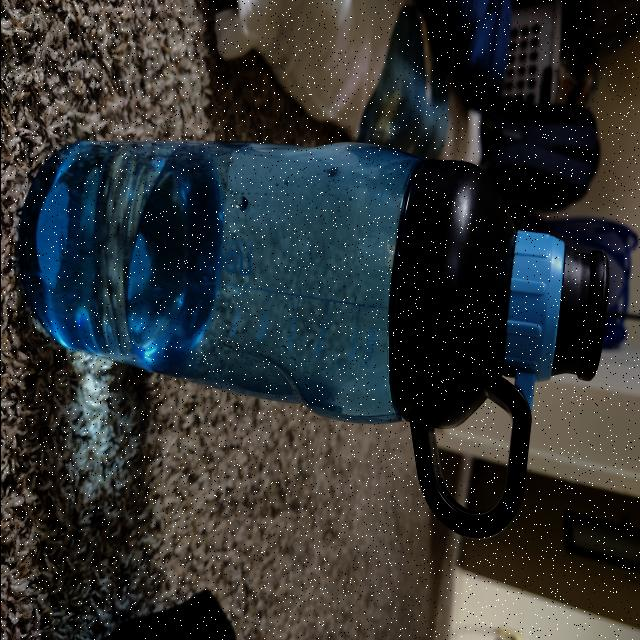bottle: (42, 155, 607, 540)
